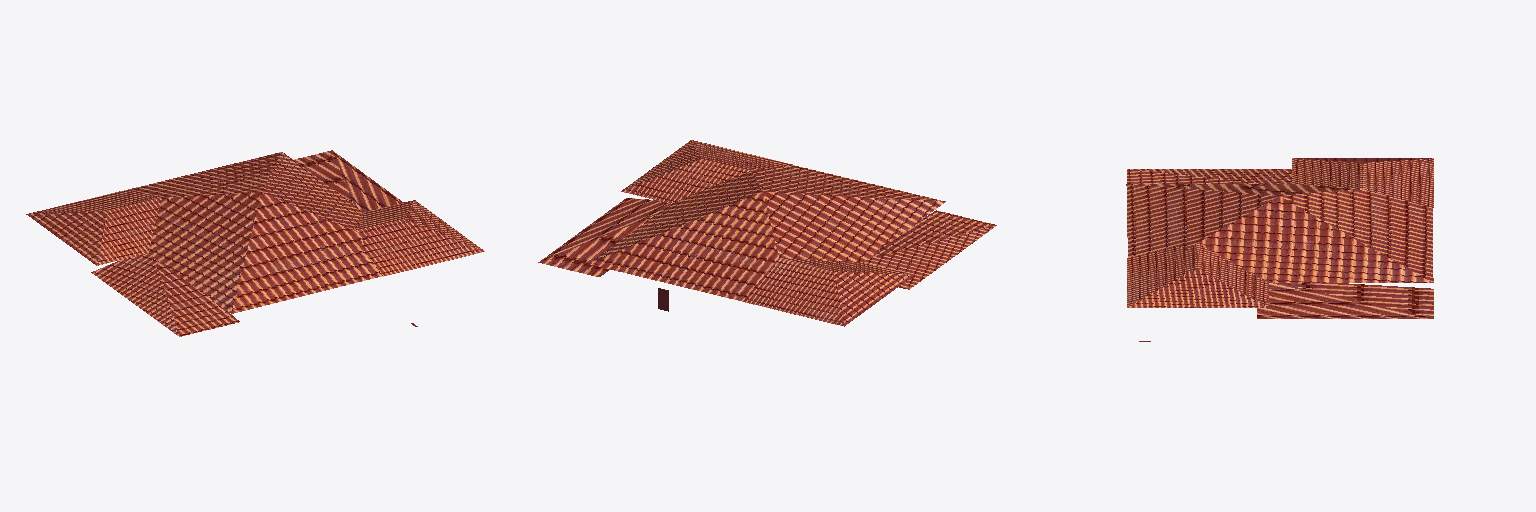
The picture shows the model from 3 angles: view 1: azimuth 30°, elevation 25°; view 2: azimuth 150°, elevation 25°; view 3: azimuth 270°, elevation 25°; orthographic projection.
Parts seen in each view (by area): view 1: roof_Cube.031; view 2: roof_Cube.031; view 3: roof_Cube.031.
Part boxes in pixels (left/top/right/bottom): roof_Cube.031: left=26, top=150, right=484, bottom=336; roof_Cube.031: left=538, top=140, right=996, bottom=326; roof_Cube.031: left=1126, top=158, right=1433, bottom=341.
Size of the model in its own units: 13.14 by 5.13 by 11.41.
Materials: 1 (1 with a texture image).